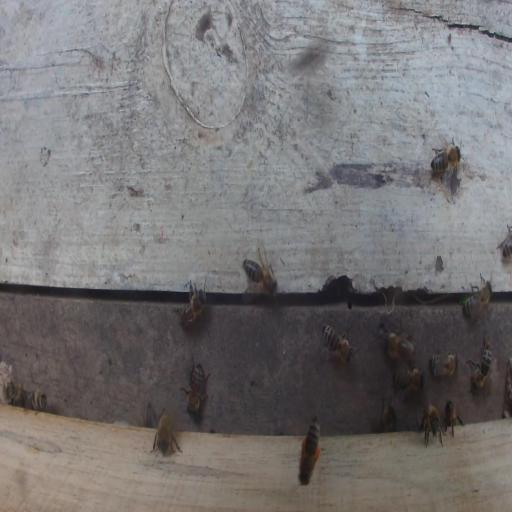bee: (240, 234, 278, 301), (428, 132, 466, 194), (180, 356, 212, 422), (171, 272, 208, 329), (461, 270, 493, 325), (150, 407, 184, 457), (465, 332, 492, 390), (299, 415, 321, 486), (321, 324, 354, 364), (392, 367, 425, 407), (419, 403, 447, 447), (427, 349, 460, 380), (368, 398, 398, 432), (383, 329, 415, 359), (443, 399, 465, 438), (22, 389, 48, 415), (7, 379, 23, 404)
